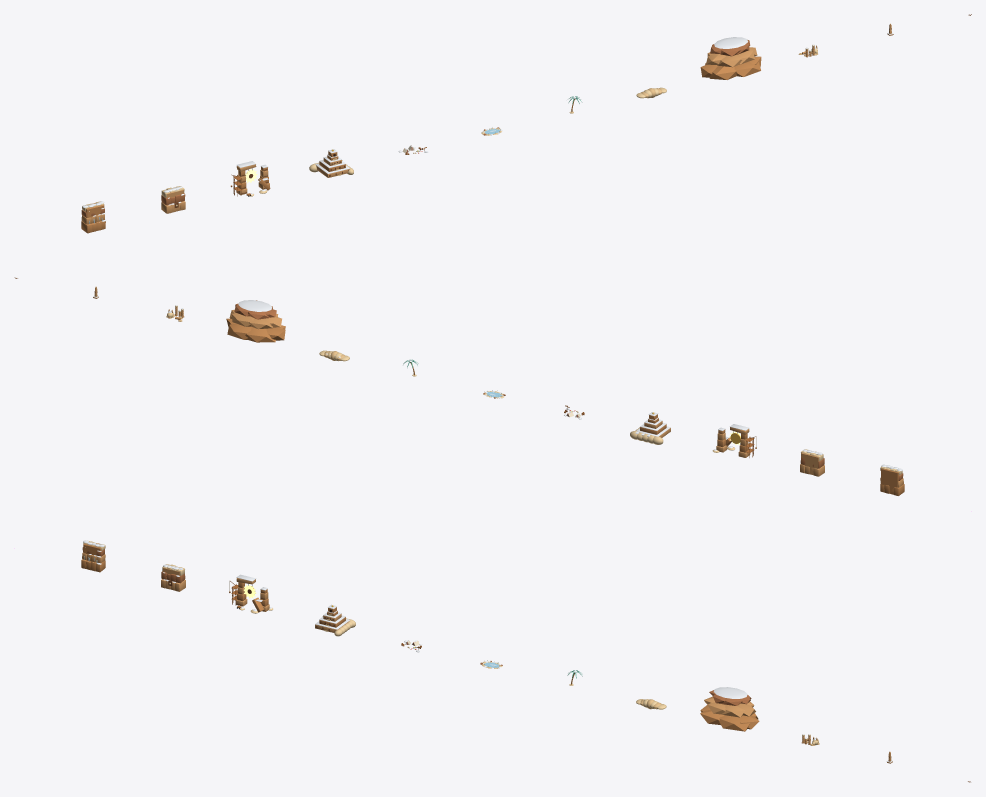
The model's file is W1_Desert.fbx.
The picture shows the model from 3 angles, top to bottom: view 1: azimuth 30°, elevation 25°; view 2: azimuth 150°, elevation 25°; view 3: azimuth 330°, elevation 25°; orthographic projection.
Parts seen in each view (by area): view 1: D_Mesa__Mesa0__C98B52SP, D_Mesa__Mesa1__D9A066SP; view 2: D_Mesa__Mesa0__C98B52SP, D_Mesa__Mesa1__D9A066SP; view 3: D_Mesa__Mesa0__C98B52SP, D_Mesa__Mesa1__D9A066SP.
Part boxes in pixels (x1=…): D_Mesa__Mesa0__C98B52SP: x1=700, y1=56, x2=761, y2=79; D_Mesa__Mesa1__D9A066SP: x1=706, y1=47, x2=757, y2=67; D_Mesa__Mesa0__C98B52SP: x1=226, y1=318, x2=285, y2=342; D_Mesa__Mesa1__D9A066SP: x1=229, y1=309, x2=281, y2=329; D_Mesa__Mesa0__C98B52SP: x1=700, y1=705, x2=759, y2=731; D_Mesa__Mesa1__D9A066SP: x1=704, y1=696, x2=755, y2=717.
Bounding box in the file's own units: 1443 × 52.09 × 54.3.
